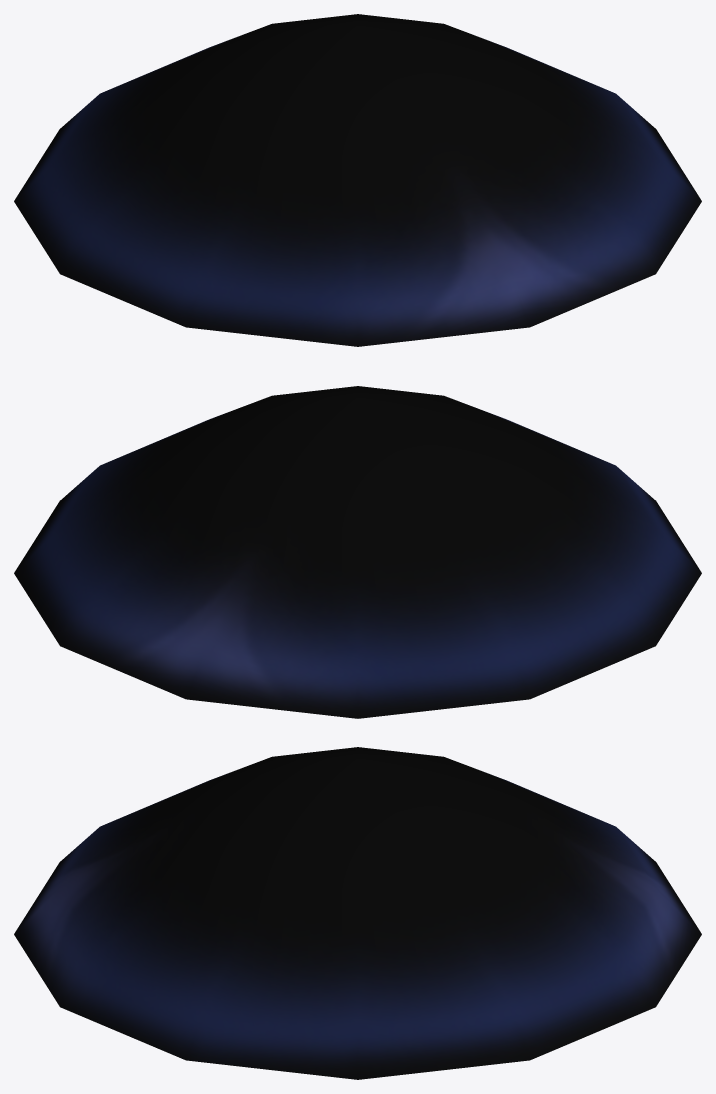
Rendered from sky_exterior.obj.
3 renders of one model, top to bottom at view 1: azimuth 30°, elevation 25°; view 2: azimuth 150°, elevation 25°; view 3: azimuth 270°, elevation 25°, orthographic.
Parts seen in each view (by area): view 1: _02_sky, _03_land; view 2: _02_sky, _03_land; view 3: _02_sky, _03_land.
Boxes of the visible parts, box(x1,y1,x2,y2) form: _02_sky: box(14, 14, 701, 346); _03_land: box(14, 128, 701, 346); _02_sky: box(14, 386, 701, 718); _03_land: box(14, 500, 701, 718); _02_sky: box(14, 747, 701, 1079); _03_land: box(14, 861, 701, 1079).
Bounding box in the file's own units: 1.11e+07 × 3647671 × 1.11e+07.
